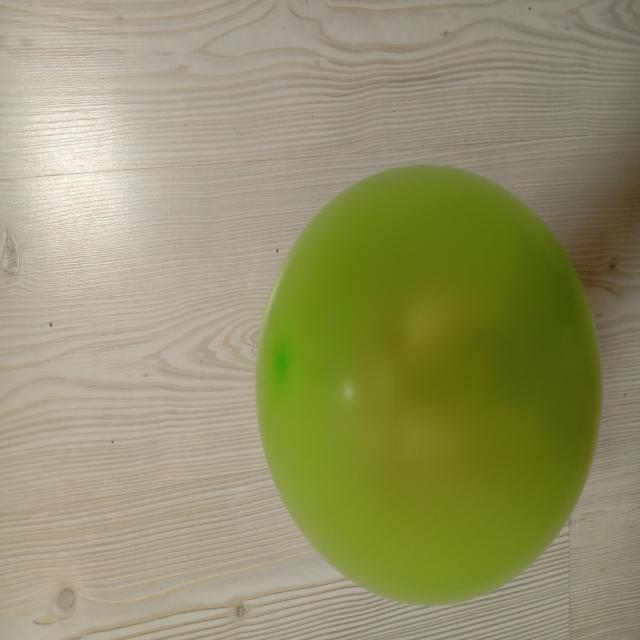balloon: (256, 165, 602, 605)
